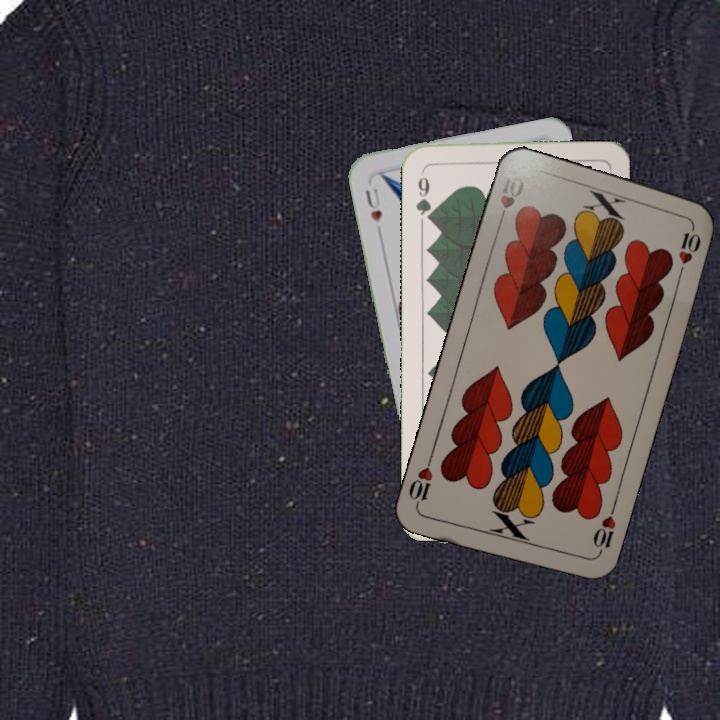G9: (412, 165, 435, 224)
H10: (494, 168, 527, 228), (589, 503, 619, 560)
HU: (361, 183, 384, 225)
